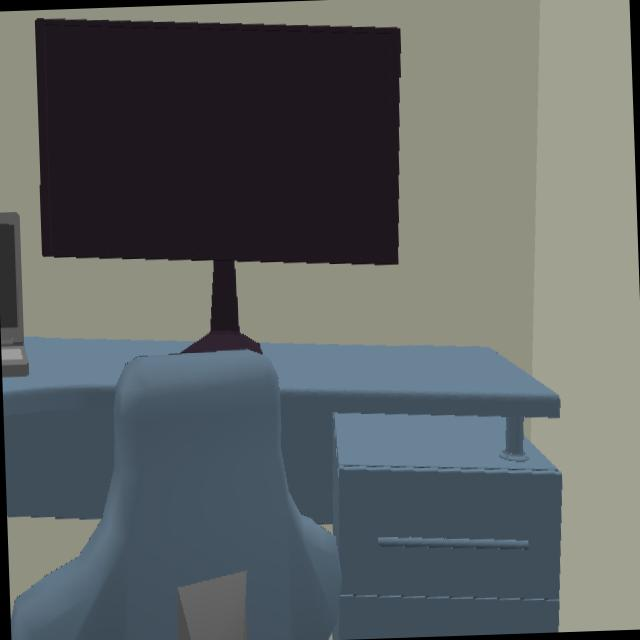cabinet: (335, 417, 562, 636)
laptop: (0, 212, 28, 376)
monitor: (36, 20, 398, 351)
table: (264, 343, 559, 521), (2, 337, 187, 516)
